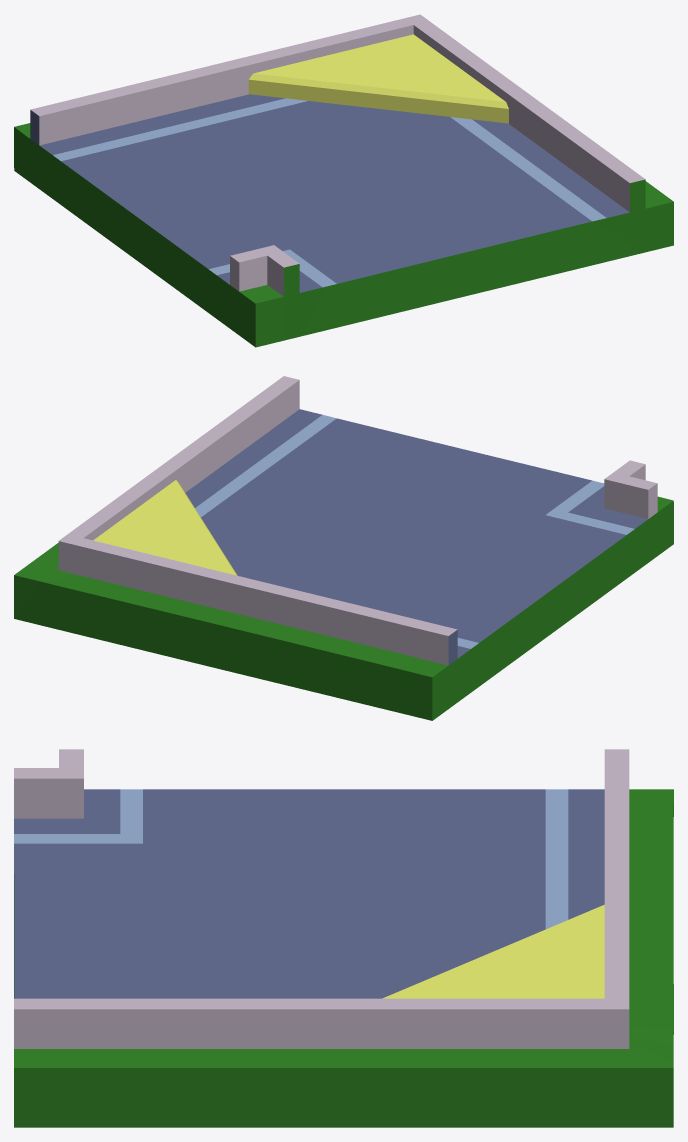
Rendered from Corner.fbx.
The picture shows the model from 3 angles, top to bottom: view 1: azimuth 30°, elevation 25°; view 2: azimuth 150°, elevation 25°; view 3: azimuth 270°, elevation 25°; orthographic projection. The views are drawn at different scales.
Parts seen in each view (by area): view 1: Box008, Object001; view 2: Box008, Object001; view 3: Box008, Object001.
Boxes of the visible parts, x1=… form: Box008: x1=14, y1=14, x2=673, y2=347; Object001: x1=248, y1=34, x2=508, y2=123; Box008: x1=14, y1=376, x2=673, y2=720; Object001: x1=93, y1=480, x2=237, y2=575; Box008: x1=14, y1=749, x2=673, y2=1127; Object001: x1=382, y1=904, x2=604, y2=998.
Bounding box in the file's own units: 50.47 × 8.42 × 50.5.
